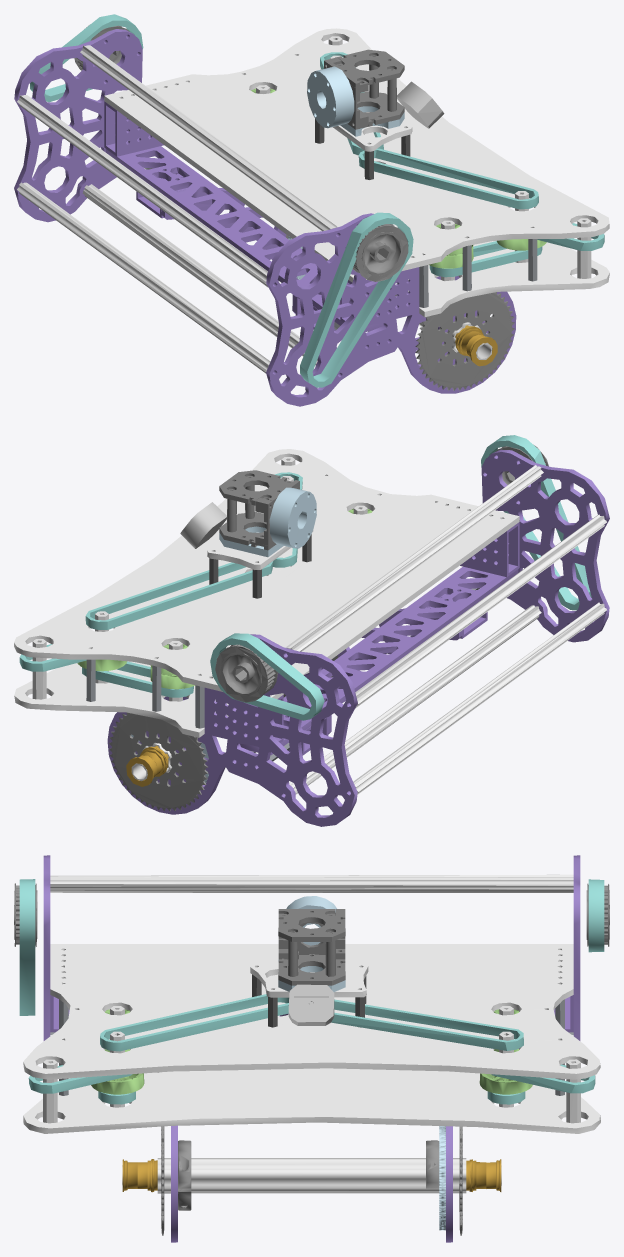
Rendered from Shooter.dae.
3 views of the same model, one above another, from view 1: azimuth 30°, elevation 25°; view 2: azimuth 150°, elevation 25°; view 3: azimuth 270°, elevation 25° (orthographic). The views are drawn at different scales.
Parts seen in each view (by area): view 1: Shooter; view 2: Shooter; view 3: Shooter.
Boxes of the visible parts, x1,y1,x2,y2 form: Shooter: (14,14,609,406); Shooter: (14,435,609,826); Shooter: (14,855,609,1242).
Size of the model in its own units: 0.3924 by 0.5642 by 0.3167.
